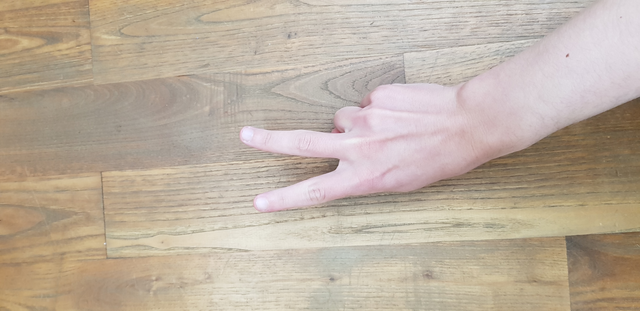Scissors: (211, 66, 516, 228)
